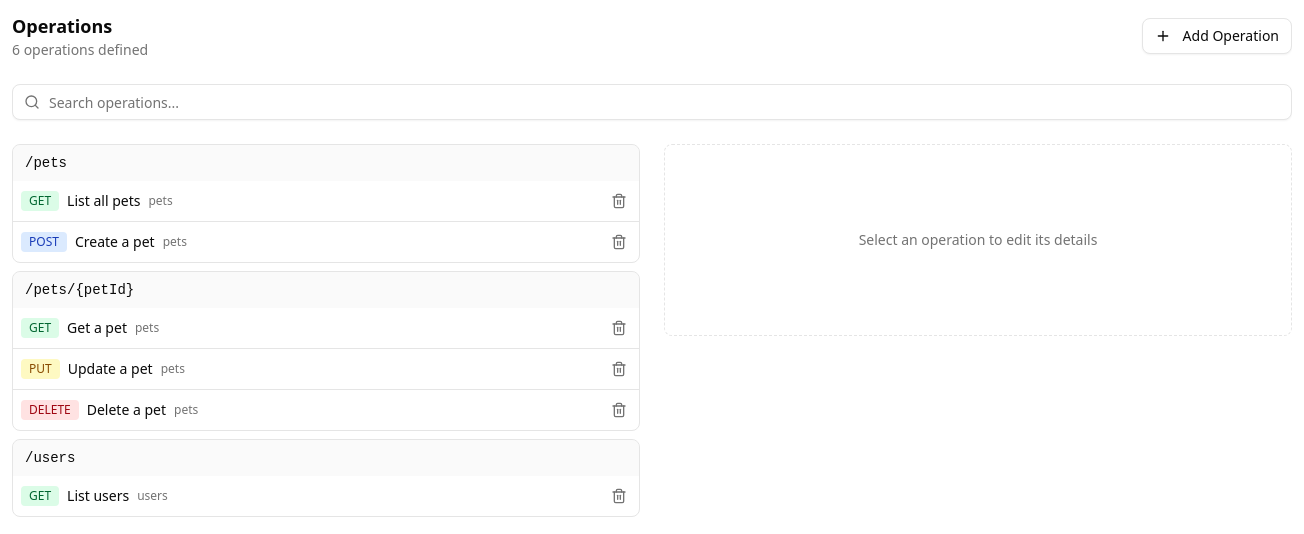
OperationsTab › Search and Filter › should clear filter when X clicked
Type "users" into the search field labelled "Search operations..." at x=652, y=102, box left=12, top=84, right=1292, bottom=120
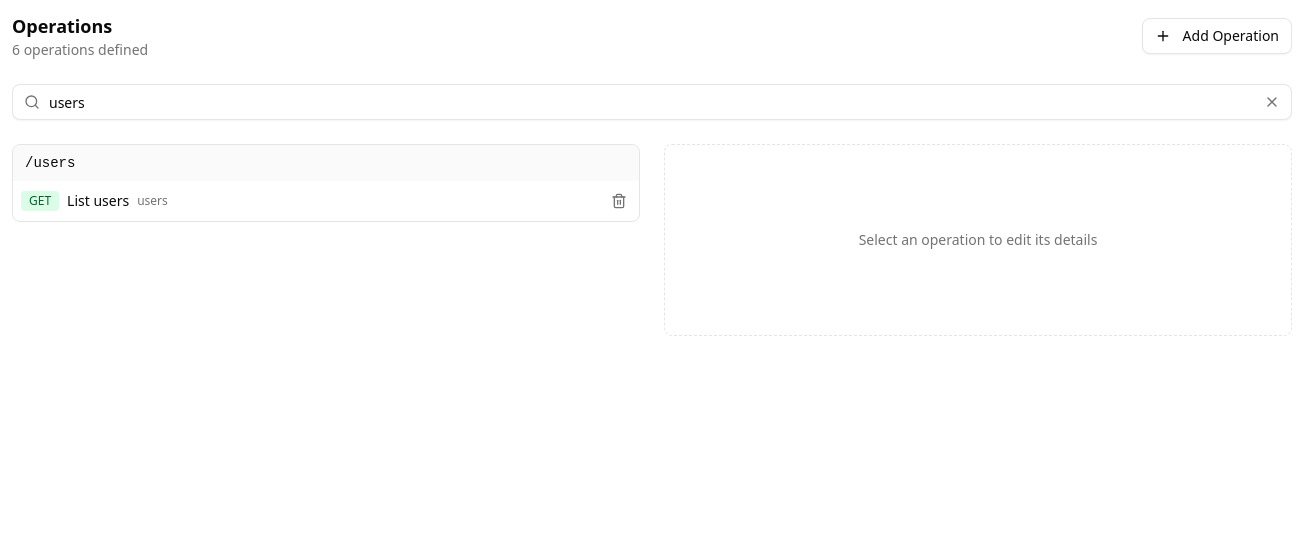
Click the button named "clear search" at x=1272, y=102, box left=1264, top=94, right=1280, bottom=110
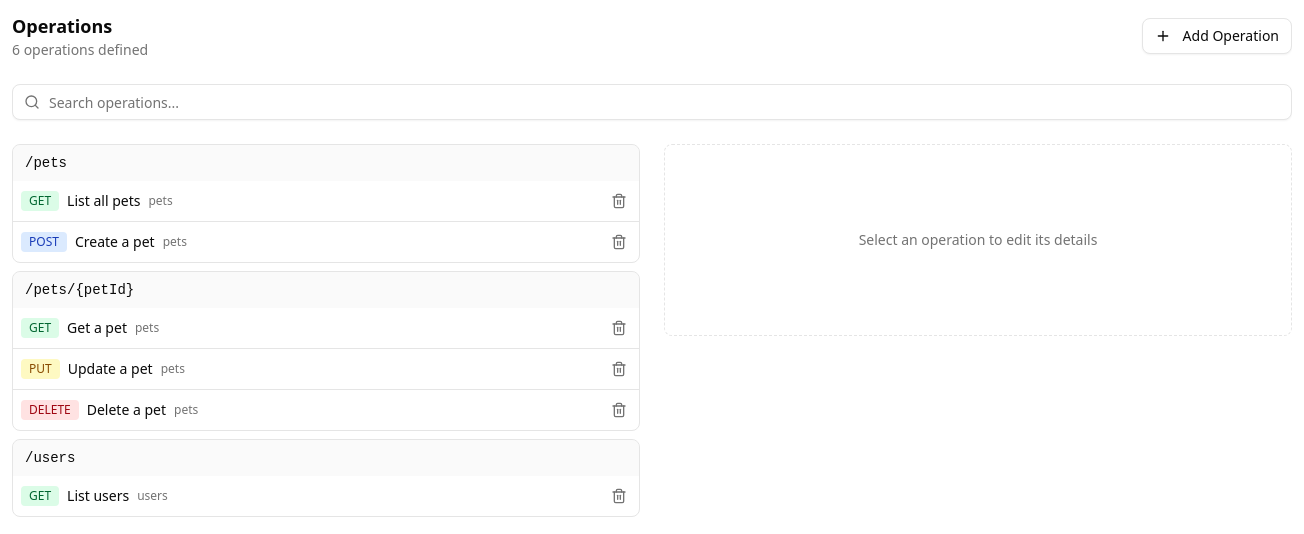
Expected: the text "/users" is shown, left=13, top=440, right=639, bottom=476
Result: the text "/pets" is shown at left=13, top=145, right=639, bottom=181
